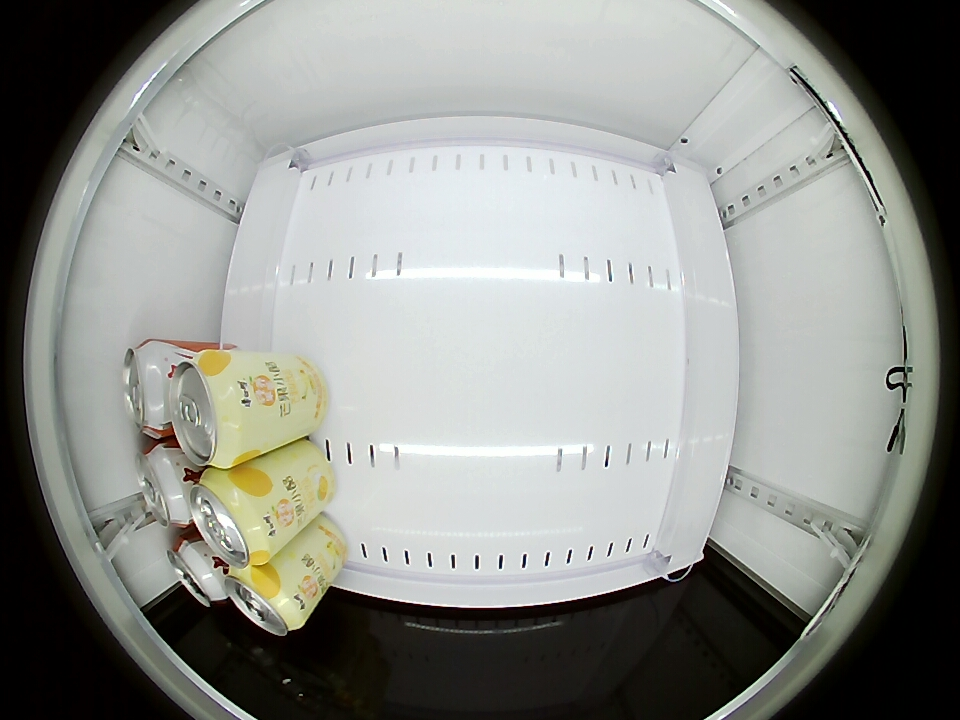jianlibao: (123, 339, 179, 438), (135, 442, 193, 529), (167, 536, 226, 608)
mangguoxiaolao: (171, 350, 249, 469), (188, 468, 275, 568), (224, 565, 303, 636)
